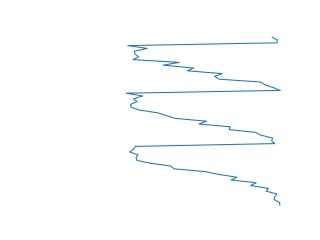distributaryMouthBar: (124, 38, 283, 207)
